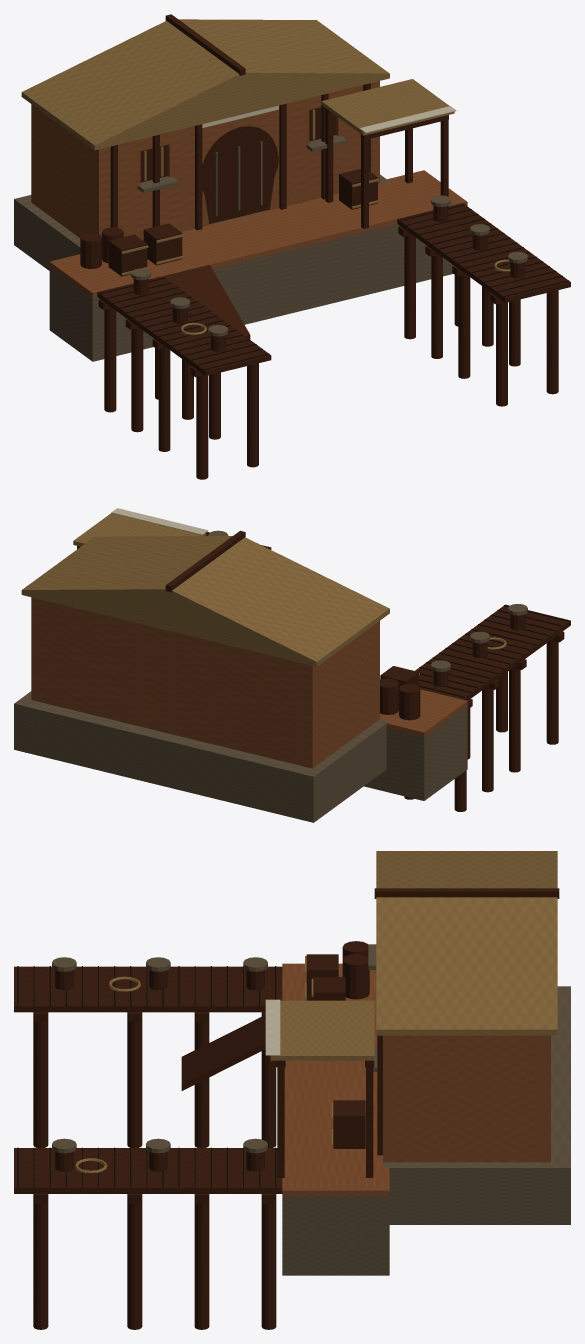
File: Berber_Dock_Age1.fbx
The picture shows the model from 3 angles, top to bottom: view 1: azimuth 30°, elevation 25°; view 2: azimuth 150°, elevation 25°; view 3: azimuth 270°, elevation 25°; orthographic projection. The views are drawn at different scales.
Visible parts, largest first — view 1: pitched_reed_roof, quay_foundation, warehouse_front, quay_deck, east_pier_deck, west_pier_deck, horseshoe_door, warehouse_side, harbour_shade, warehouse_land_plinth, west_slipway, west_pile.006 (+27 smaller); view 2: warehouse_back, pitched_reed_roof, warehouse_land_plinth, west_pier_deck, warehouse_side, quay_foundation, quay_deck, harbour_shade, west_pile.006, west_pile.002, west_pile.004, roof_ridge (+7 smaller); view 3: pitched_reed_roof, warehouse_side.001, warehouse_land_plinth, quay_deck, west_pier_deck, east_pier_deck, quay_foundation, harbour_shade, west_slipway, east_pile.001, east_pile.003, east_pile.005 (+16 smaller).
Part boxes in pixels (left/top/right/bottom): pitched_reed_roof: left=21, top=19, right=389, bottom=150; quay_foundation: left=49, top=224, right=453, bottom=361; warehouse_front: left=93, top=81, right=379, bottom=240; quay_deck: left=49, top=170, right=467, bottom=297; east_pier_deck: left=397, top=203, right=570, bottom=302; west_pier_deck: left=97, top=276, right=271, bottom=375; horseshoe_door: left=202, top=126, right=277, bottom=224; warehouse_side: left=37, top=108, right=93, bottom=237; harbour_shade: left=321, top=79, right=454, bottom=135; warehouse_land_plinth: left=14, top=174, right=388, bottom=270; west_slipway: left=163, top=264, right=250, bottom=339; west_pile.006: left=196, top=374, right=208, bottom=479; warehouse_back: left=31, top=597, right=317, bottom=768; pitched_reed_roof: left=21, top=536, right=389, bottom=666; warehouse_land_plinth: left=14, top=691, right=388, bottom=822; west_pier_deck: left=415, top=604, right=570, bottom=700; warehouse_side: left=318, top=625, right=374, bottom=764; quay_foundation: left=364, top=706, right=467, bottom=800; quay_deck: left=380, top=689, right=467, bottom=737; harbour_shade: left=73, top=513, right=206, bottom=546; west_pile.006: left=546, top=639, right=558, bottom=744; west_pile.002: left=482, top=686, right=493, bottom=792; west_pile.004: left=509, top=666, right=520, bottom=772; roof_ridge: left=165, top=530, right=245, bottom=592; pitched_reed_roof: left=376, top=851, right=557, bottom=1035; warehouse_side.001: left=396, top=1035, right=537, bottom=1162; warehouse_land_plinth: left=383, top=986, right=570, bottom=1224; quay_deck: left=282, top=963, right=389, bottom=1196; west_pier_deck: left=14, top=966, right=282, bottom=1012; east_pier_deck: left=14, top=1148, right=282, bottom=1193; quay_foundation: left=282, top=1196, right=389, bottom=1275; harbour_shade: left=270, top=1000, right=374, bottom=1060; west_slipway: left=181, top=1016, right=265, bottom=1090; east_pile.001: left=261, top=1194, right=276, bottom=1329; east_pile.003: left=194, top=1194, right=209, bottom=1329; east_pile.005: left=127, top=1194, right=142, bottom=1329.
Bounding box in the file's own units: 800 × 544 × 830.
Materials: 6 (6 with a texture image).
